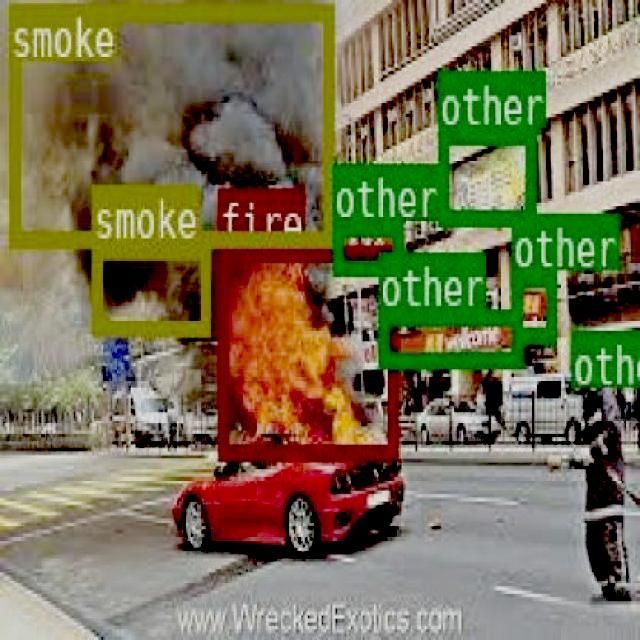fire: (218, 244, 396, 458)
smoke: (9, 2, 332, 244), (90, 239, 208, 332)
